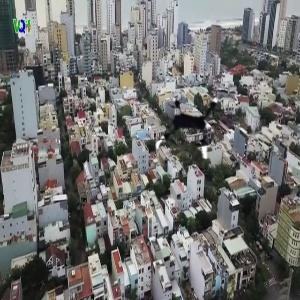drone: (150, 90, 233, 173)
